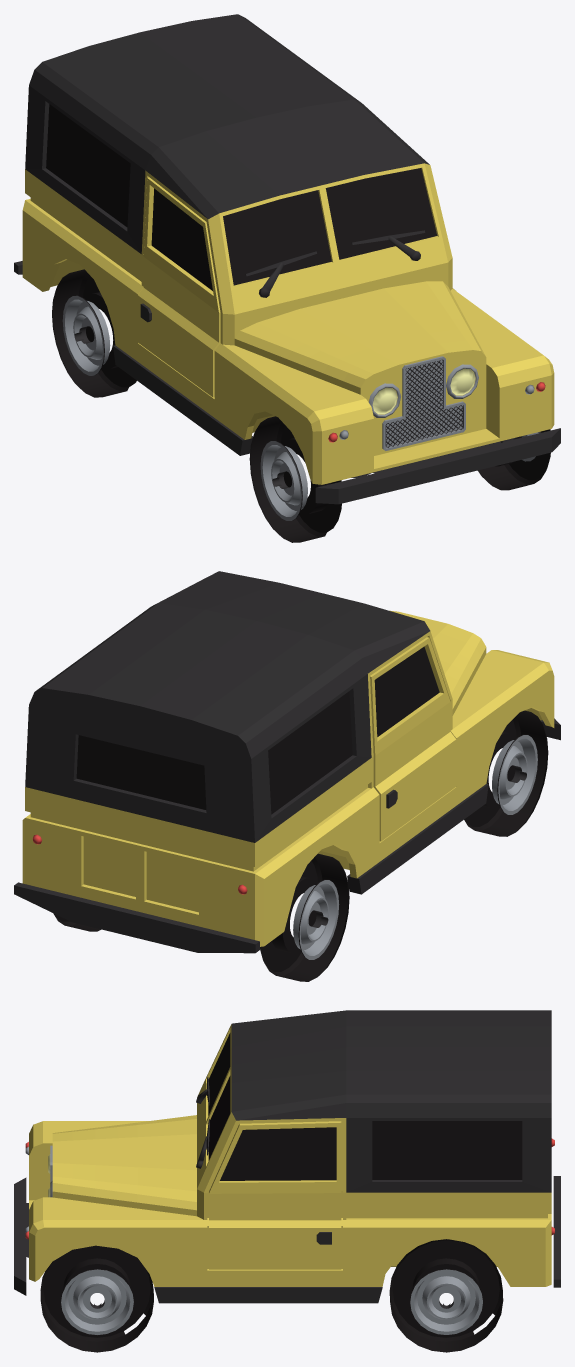
Rendered from Off-Road.obj.
The picture shows the model from 3 angles, top to bottom: view 1: azimuth 30°, elevation 25°; view 2: azimuth 150°, elevation 25°; view 3: azimuth 270°, elevation 25°; orthographic projection. The views are drawn at different scales.
Visible parts, largest first — view 1: Body_Circle_Circle.001, Wheel_4_Circle.005, Wheel_3_Circle.003, Grid_Plane.005_Plane.004, Wheel_1_Circle.007; view 2: Body_Circle_Circle.001, Wheel_3_Circle.003, Wheel_4_Circle.005; view 3: Body_Circle_Circle.001, Wheel_2_Circle.001, Wheel_1_Circle.007.
Boxes of the visible parts, x1,y1,x2,y2 form: Body_Circle_Circle.001: [14, 14, 560, 504]; Wheel_4_Circle.005: [249, 416, 341, 542]; Wheel_3_Circle.003: [52, 269, 136, 397]; Grid_Plane.005_Plane.004: [385, 359, 463, 447]; Wheel_1_Circle.007: [477, 429, 550, 490]; Body_Circle_Circle.001: [14, 571, 560, 953]; Wheel_3_Circle.003: [260, 853, 349, 981]; Wheel_4_Circle.005: [464, 710, 548, 836]; Body_Circle_Circle.001: [14, 1010, 560, 1303]; Wheel_2_Circle.001: [389, 1239, 503, 1352]; Wheel_1_Circle.007: [40, 1245, 153, 1352].
Bounding box in the file's own units: 2.16 × 2.34 × 4.57.
Materials: 9 (9 with a texture image).
